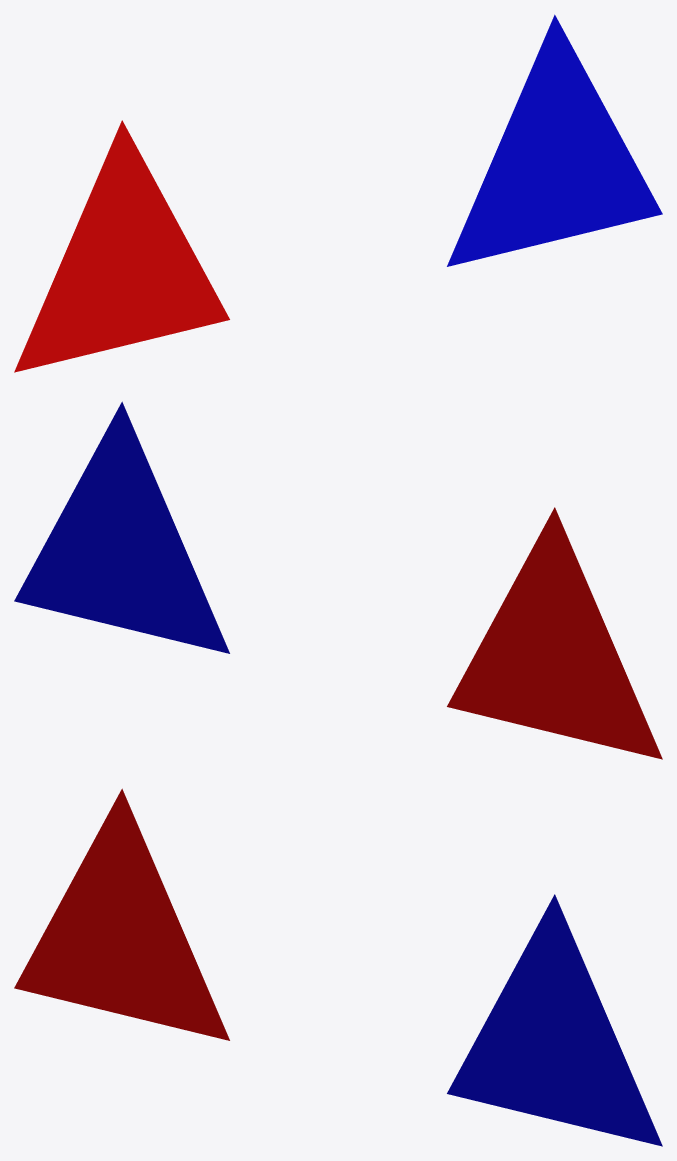
Rendered from 15_multi_primitive.gltf.
The picture shows the model from 3 angles, top to bottom: view 1: azimuth 30°, elevation 25°; view 2: azimuth 150°, elevation 25°; view 3: azimuth 330°, elevation 25°; orthographic projection.
Parts seen in each view (by area): view 1: MultiPrimMesh; view 2: MultiPrimMesh; view 3: MultiPrimMesh.
Boxes of the visible parts, left/top/right/bottom form: MultiPrimMesh: left=14, top=14, right=662, bottom=372; MultiPrimMesh: left=14, top=401, right=662, bottom=759; MultiPrimMesh: left=14, top=788, right=662, bottom=1146.
Size of the model in its own units: 3 by 1 by 0.
